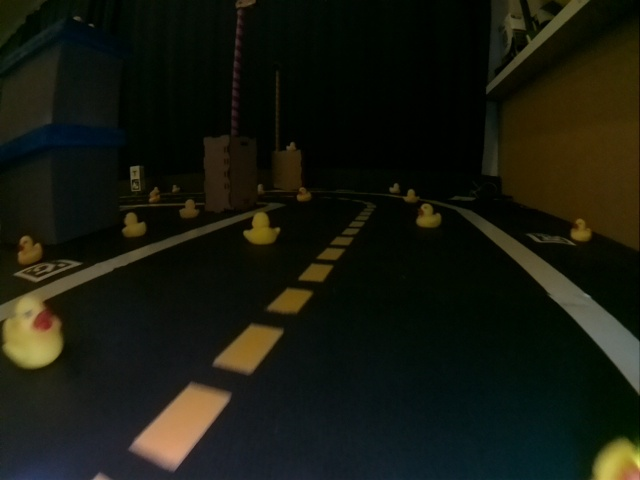Duckie: (4, 298, 60, 368), (241, 211, 278, 246), (17, 236, 42, 262), (572, 217, 594, 242), (123, 214, 144, 237), (416, 205, 440, 225), (179, 199, 197, 218), (404, 188, 416, 203), (296, 185, 307, 200), (390, 182, 399, 192), (258, 183, 267, 193), (172, 184, 181, 193), (287, 141, 295, 150), (151, 194, 159, 202)
QR code: (15, 258, 80, 283), (530, 232, 570, 245)
